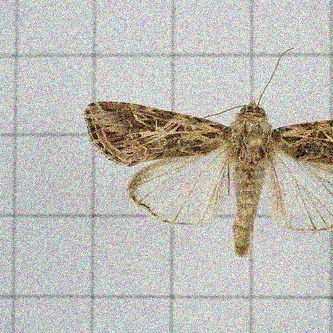Spodoptera litura: (82, 48, 332, 258)
